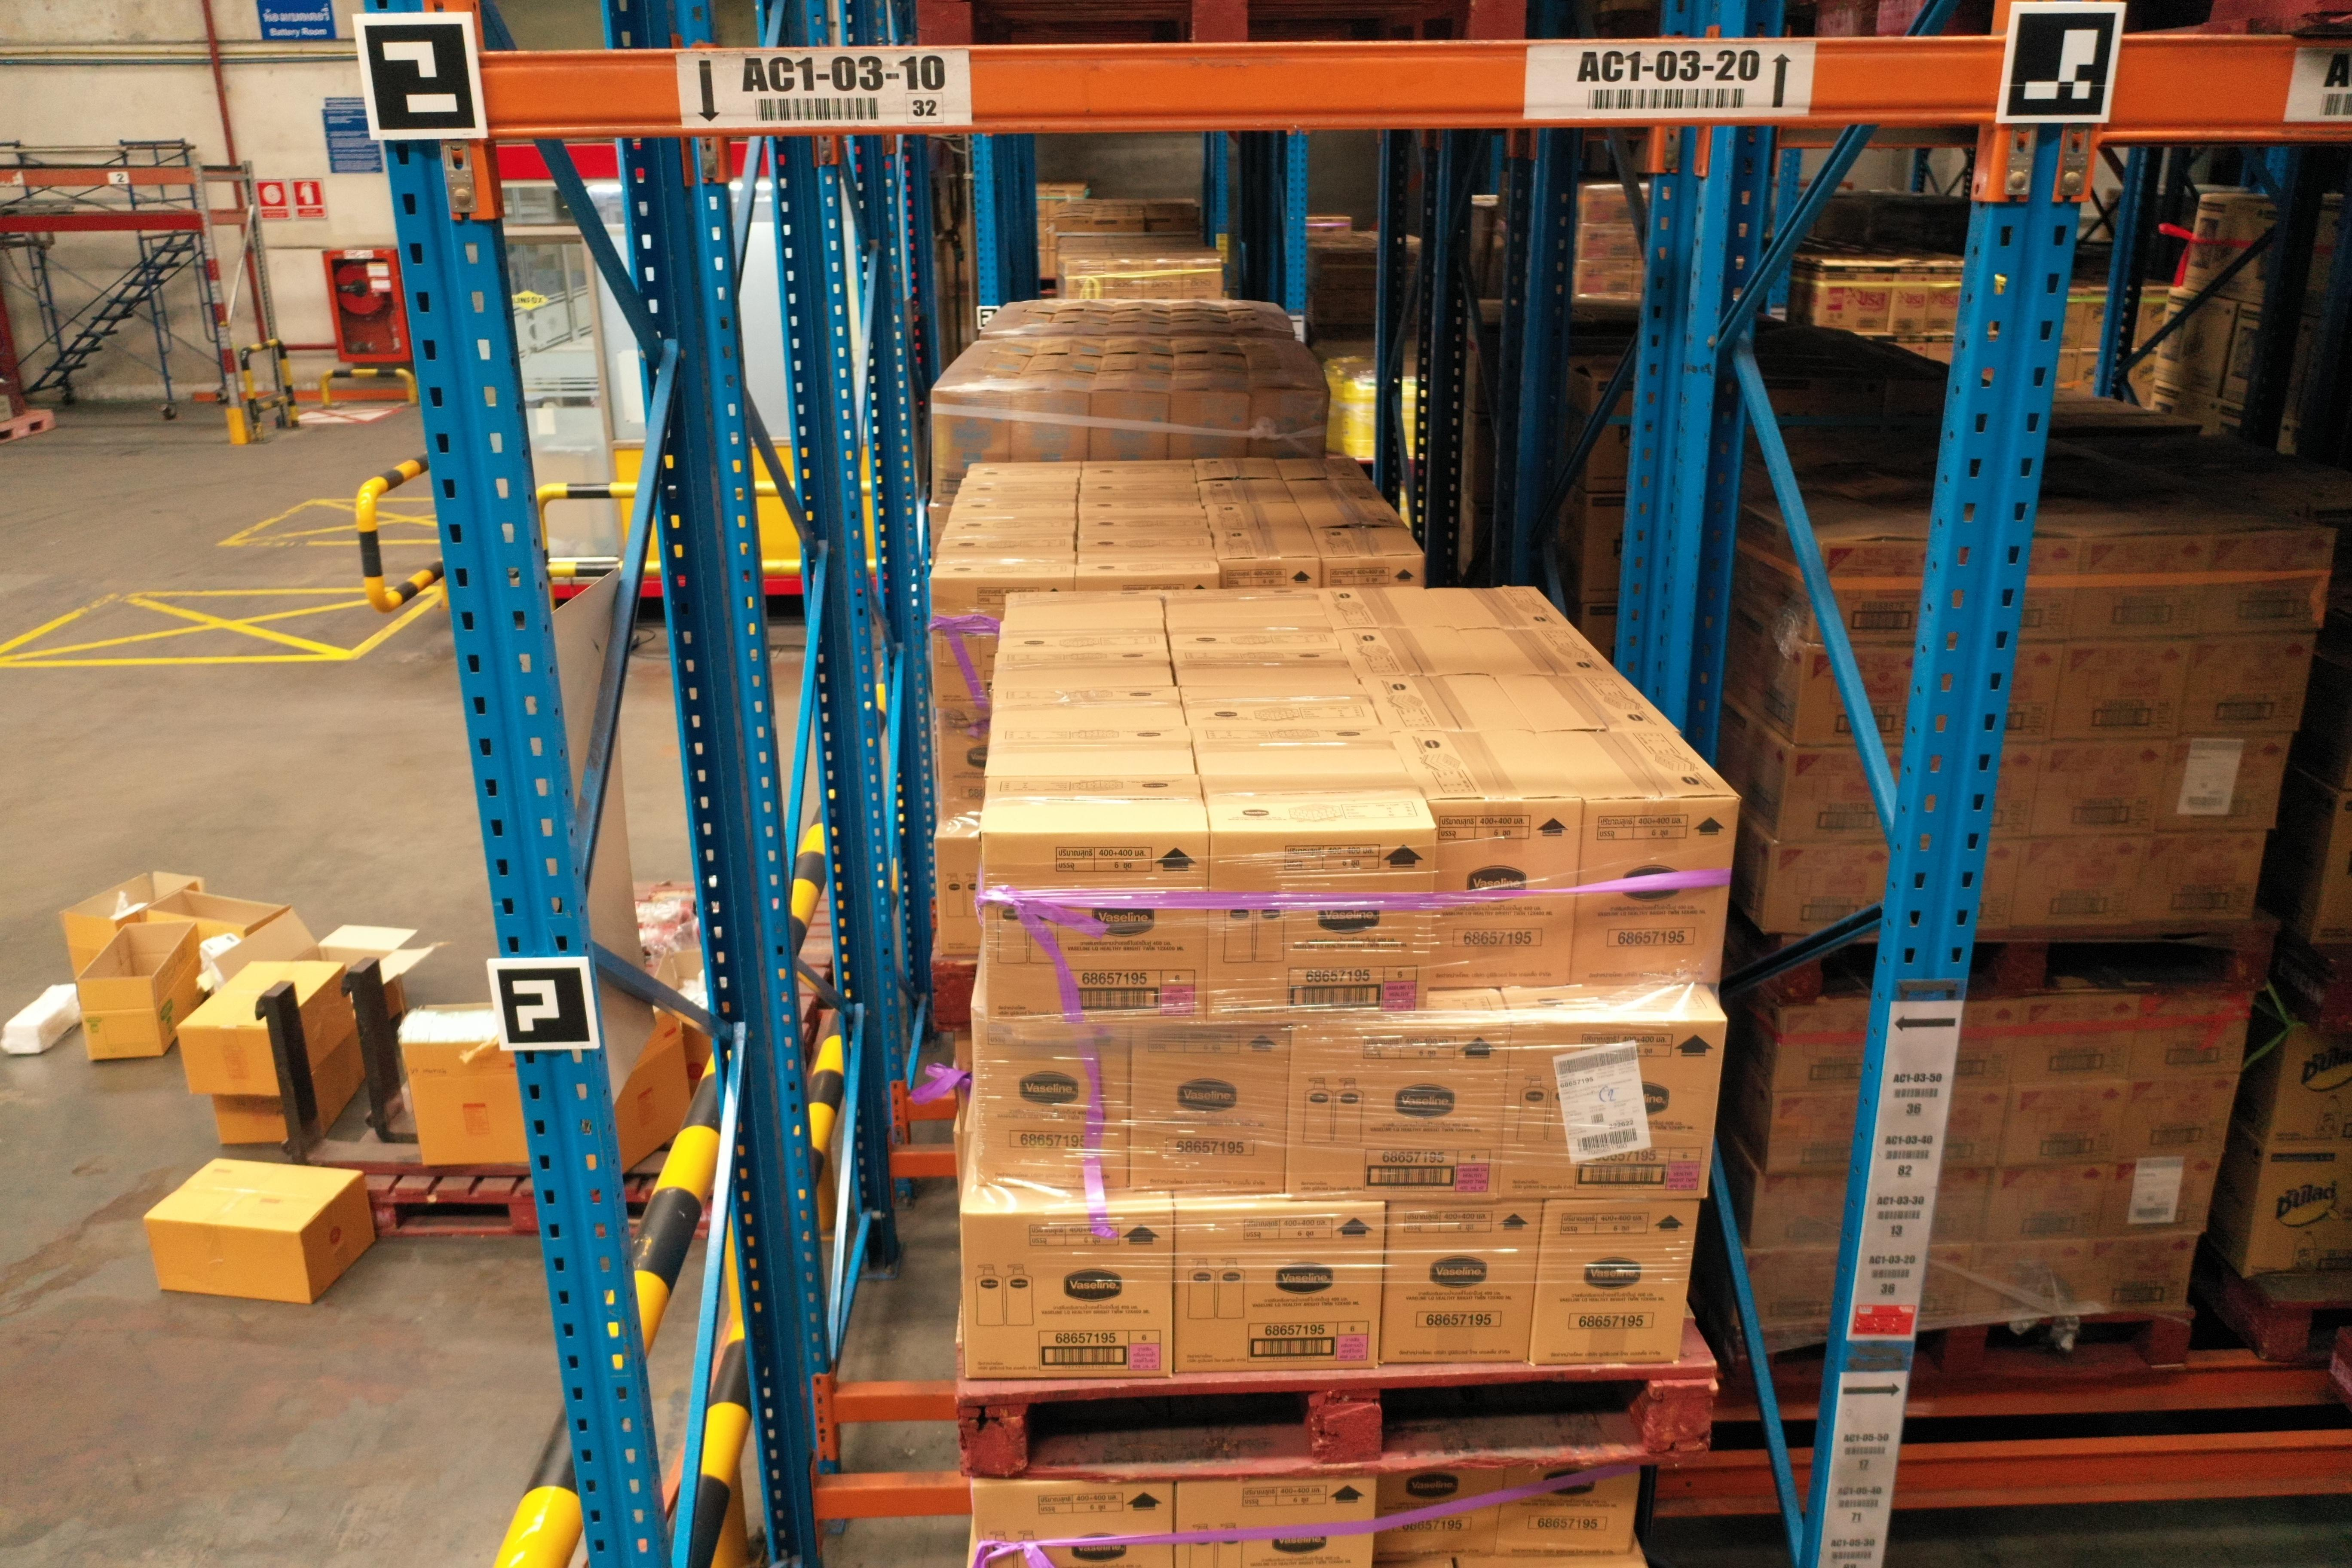-: (980, 836, 1213, 1024), (1207, 829, 1435, 1018), (1494, 1024, 1727, 1204), (1283, 1017, 1507, 1204), (955, 1209, 1176, 1379), (1174, 1204, 1386, 1372), (1566, 801, 1736, 987), (1426, 798, 1580, 996), (973, 1015, 1132, 1199), (1127, 1015, 1288, 1195), (1528, 1199, 1699, 1363), (1379, 1204, 1543, 1365), (1174, 1479, 1375, 1568), (973, 1480, 1176, 1568), (1494, 1468, 1640, 1556), (1375, 1472, 1507, 1557)
box: (2067, 534, 2212, 642), (2242, 1143, 2352, 1283), (2051, 637, 2194, 744), (2177, 632, 2312, 744), (2028, 738, 2170, 842), (2203, 528, 2331, 642), (1790, 640, 1914, 754), (2009, 833, 2154, 929), (1773, 745, 1906, 849), (2011, 992, 2142, 1092), (1762, 842, 1895, 940), (2158, 733, 2291, 831), (2133, 831, 2268, 926), (1816, 539, 1932, 647), (1995, 1085, 2126, 1176), (2131, 989, 2254, 1083), (2091, 1153, 2221, 1241), (2114, 1071, 2240, 1160), (2264, 1020, 2352, 1148), (1963, 1241, 2093, 1326), (1771, 999, 1872, 1099), (1979, 1165, 2107, 1244), (2081, 1232, 2198, 1316), (1741, 1249, 1846, 1335), (1769, 1092, 1858, 1179), (1752, 1176, 1850, 1253), (2019, 534, 2081, 644), (1951, 999, 2019, 1092), (2005, 644, 2063, 751), (1939, 1090, 2007, 1176), (1991, 744, 2042, 845), (1914, 1244, 1972, 1330), (1930, 1169, 1991, 1246), (1976, 845, 2019, 933)
